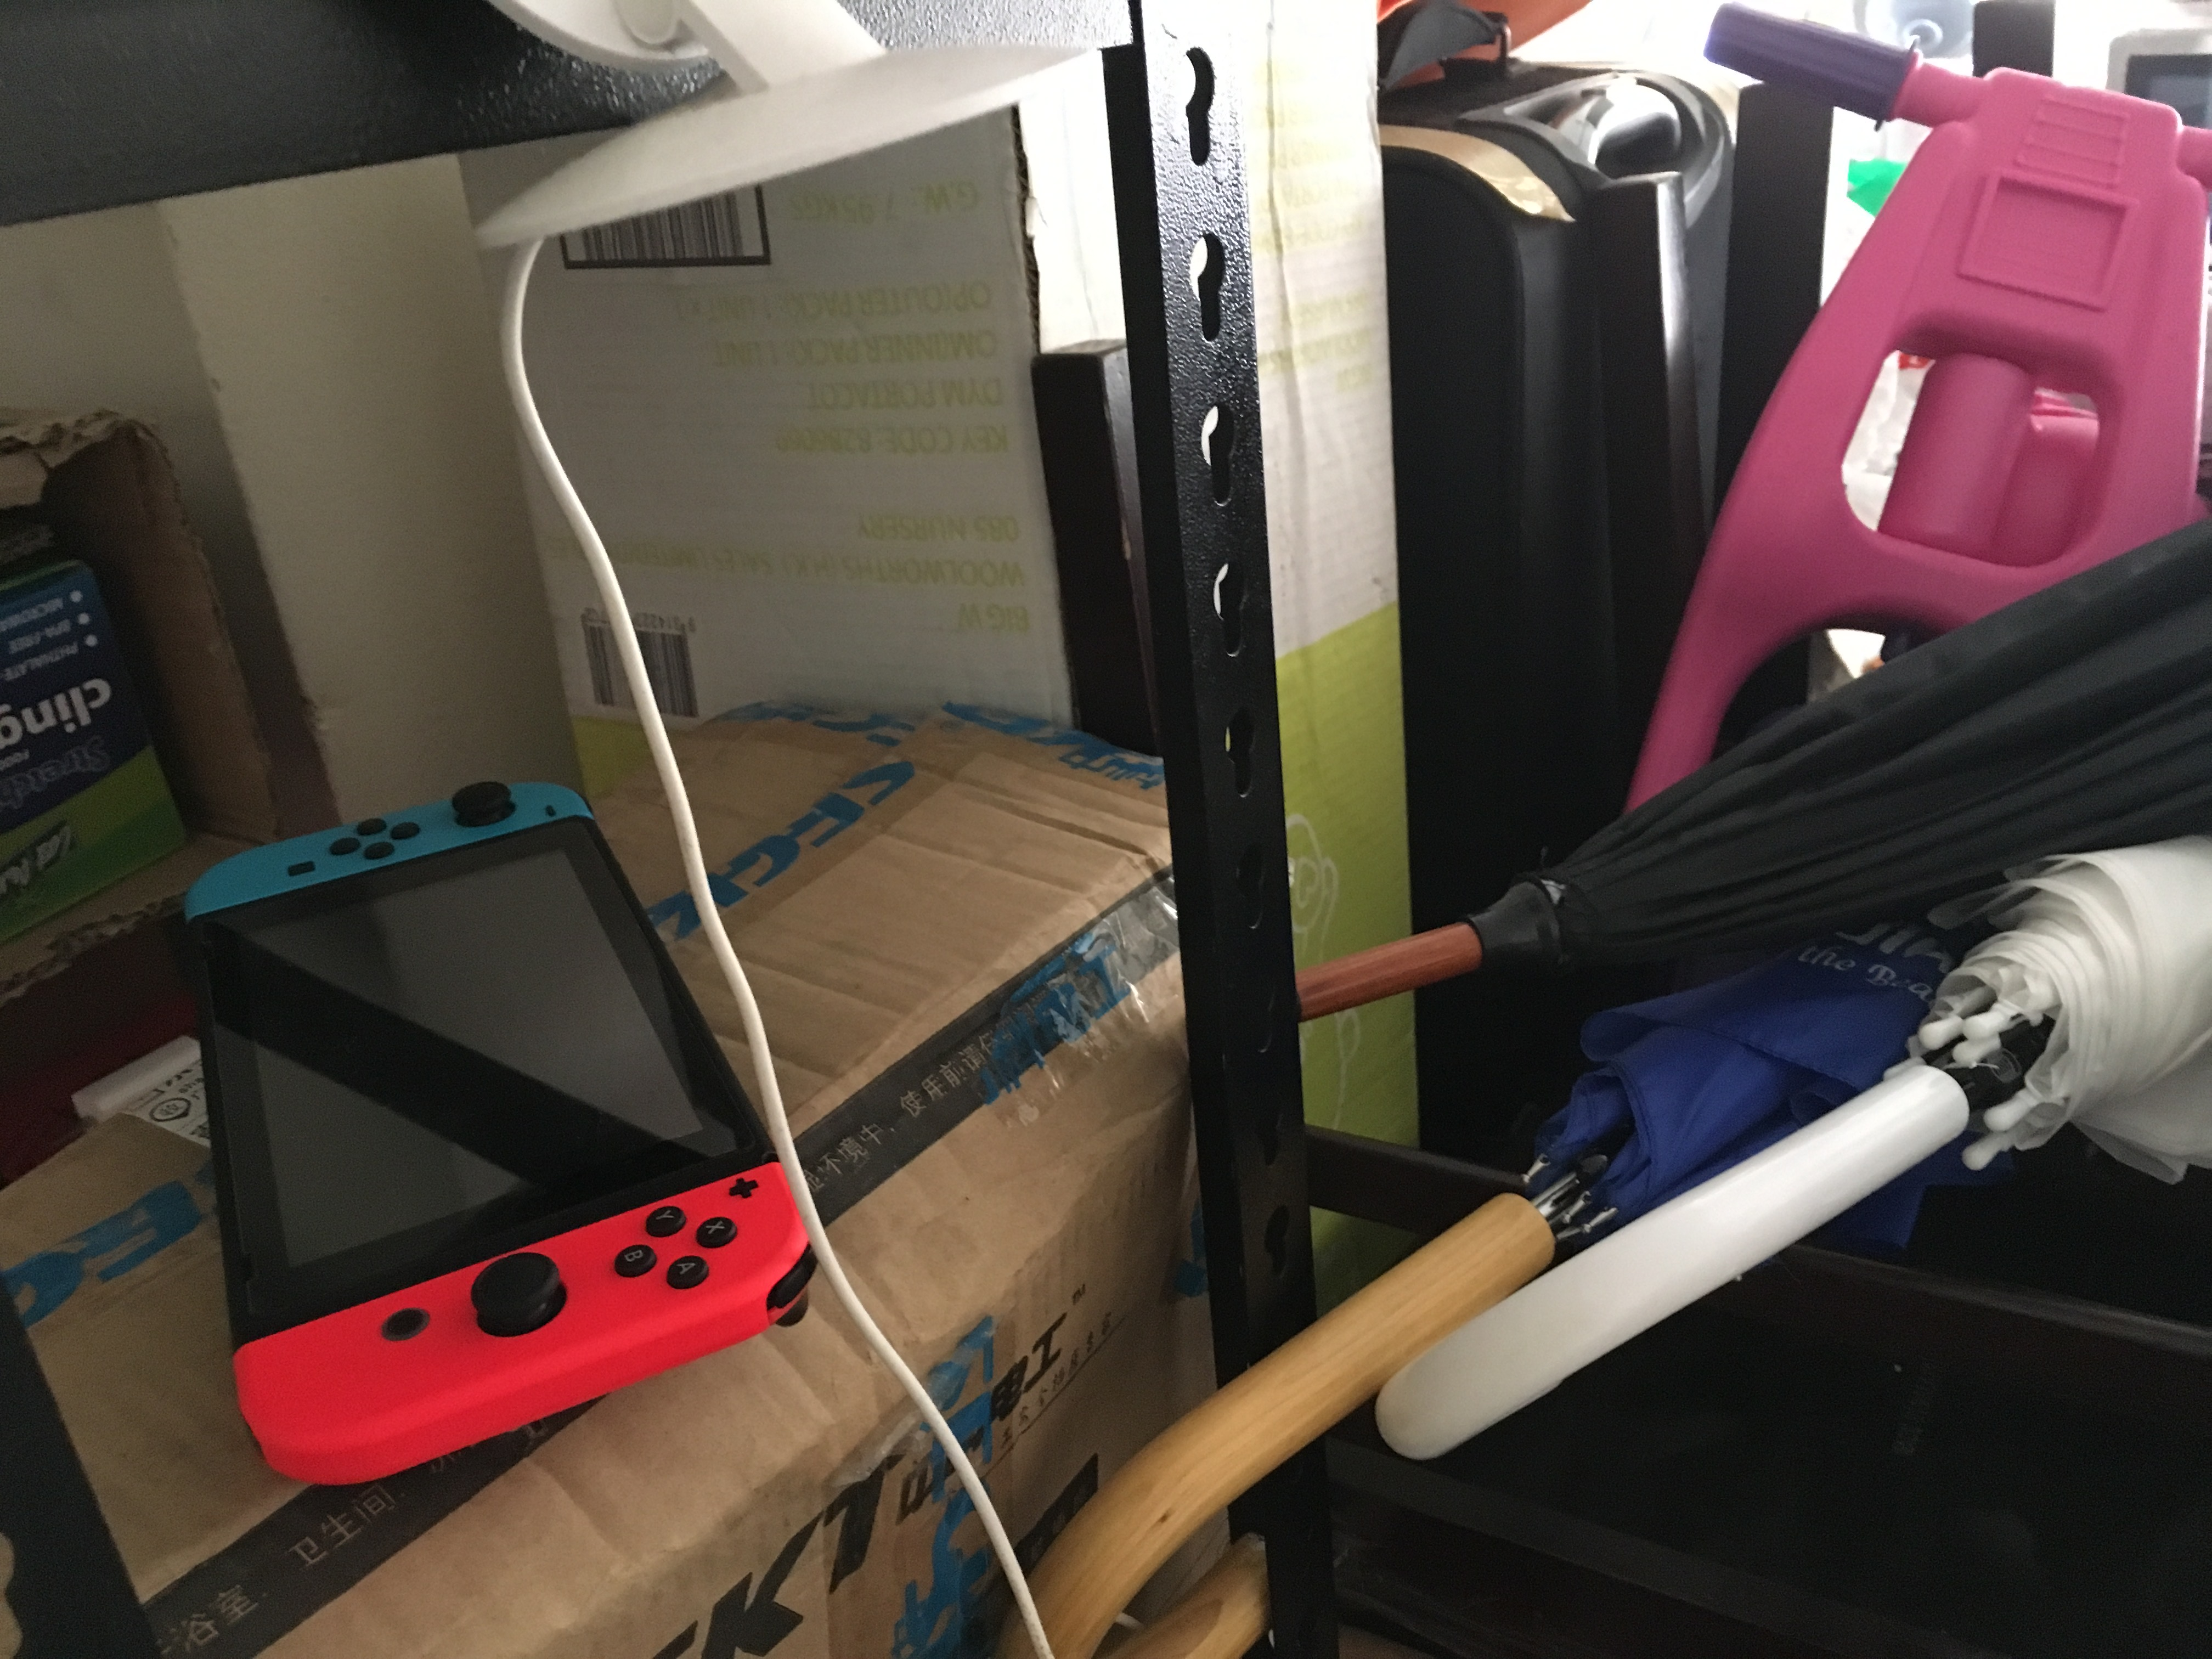NintendoSwitch: (181, 777, 827, 1499)
